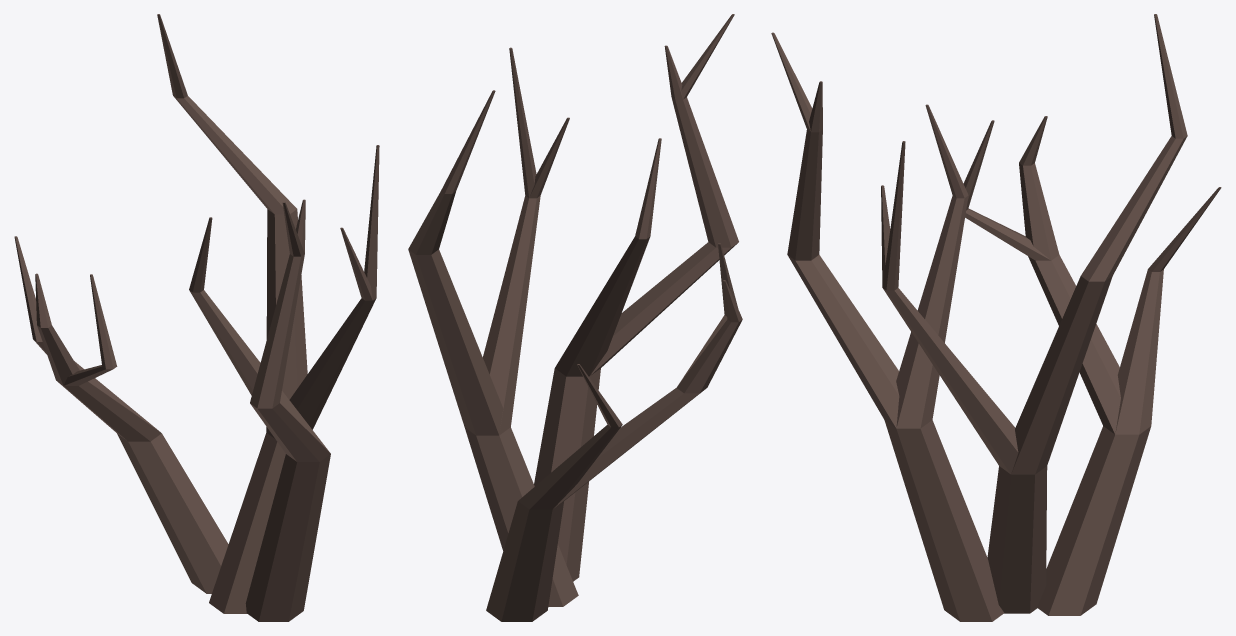
The model's file is dryBush01.gltf.
The picture shows the model from 3 angles, left to right: view 1: azimuth 30°, elevation 25°; view 2: azimuth 150°, elevation 25°; view 3: azimuth 270°, elevation 25°; orthographic projection. The views are drawn at different scales.
Visible parts, largest first — view 1: Cone.020, Cone.003, Cone.015; view 2: Cone.003, Cone.020, Cone.015; view 3: Cone.020, Cone.003, Cone.015.
Boxes of the visible parts, left/top/right/bottom form: Cone.020: left=189, top=199, right=330, bottom=621; Cone.003: left=157, top=14, right=379, bottom=613; Cone.015: left=14, top=236, right=228, bottom=593; Cone.003: left=408, top=47, right=578, bottom=606; Cone.020: left=534, top=14, right=738, bottom=581; Cone.015: left=486, top=243, right=742, bottom=621; Cone.020: left=771, top=32, right=1003, bottom=621; Cone.003: left=881, top=14, right=1187, bottom=613; Cone.015: left=963, top=116, right=1221, bottom=615.
Bounding box in the file's own units: 2.21 × 3.99 × 2.81.
